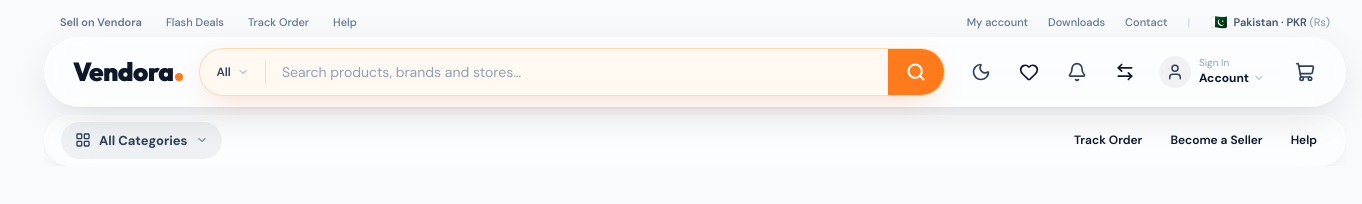
Test: Navbar (header redesign, pill shape, smart sticky, menu clip fix) › submits the search to the catalogue with the typed query
This screenshot has width=1362, height=204.
In the dropdown named "Search Vendora": (577, 72) 266,62 -> 888,82, type "desk lamp"
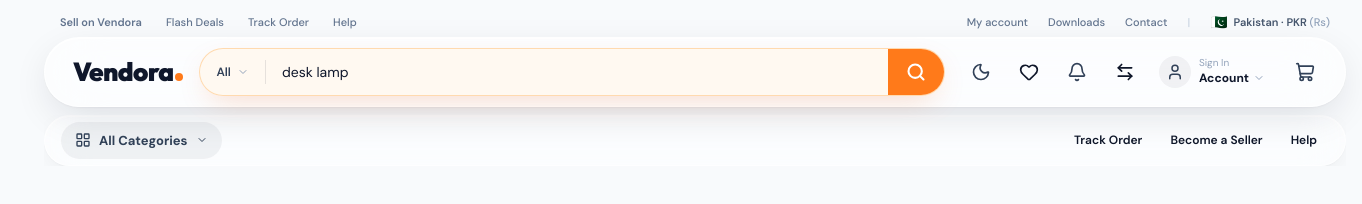
Click the button named "Search": (916, 72) 888,48 -> 944,94
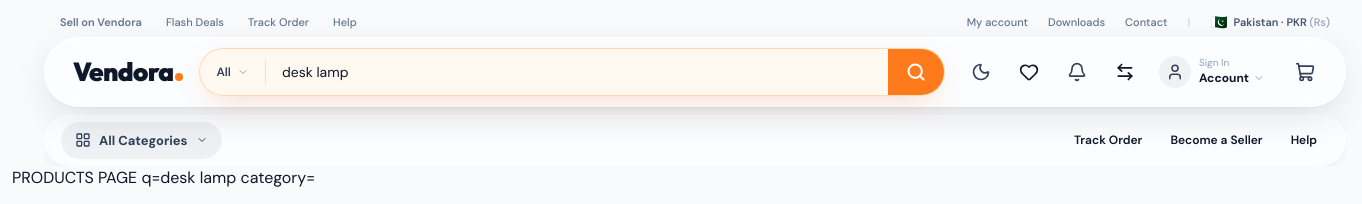
Expected: the text "PRODUCTS PAGE q=desk lamp category=" is shown, 12,167 -> 315,188
